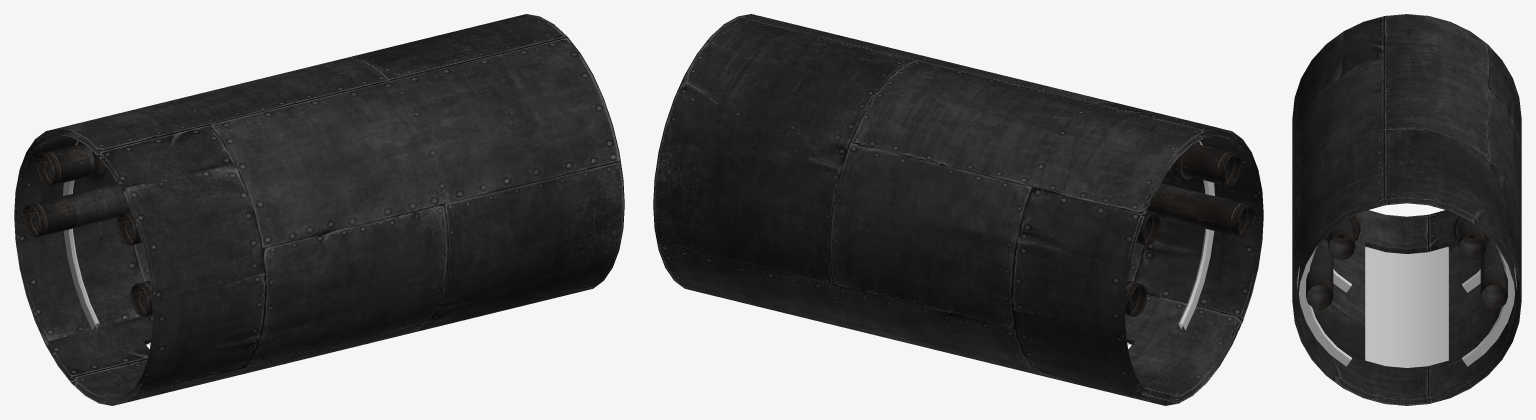
Rendered from engineroom_largepipe_straight.dae.
The picture shows the model from 3 angles, left to right: view 1: azimuth 30°, elevation 25°; view 2: azimuth 150°, elevation 25°; view 3: azimuth 270°, elevation 25°; orthographic projection. The views are drawn at different scales.
Parts seen in each view (by area): view 1: pipe_straight_sheets, pipe_straight_pipes, pipe_straight_ribs1; view 2: pipe_straight_sheets, pipe_straight_pipes, pipe_straight_ribs1; view 3: pipe_straight_sheets, pipe_straight_grate, pipe_straight_pipes, pipe_straight_ribs1.
Part boxes in pixels (bbox=[...]): pipe_straight_sheets: bbox=[14, 14, 624, 405]; pipe_straight_pipes: bbox=[22, 141, 152, 316]; pipe_straight_ribs1: bbox=[63, 141, 99, 330]; pipe_straight_sheets: bbox=[653, 14, 1263, 405]; pipe_straight_pipes: bbox=[1125, 141, 1255, 316]; pipe_straight_ribs1: bbox=[1178, 141, 1214, 330]; pipe_straight_sheets: bbox=[1292, 14, 1521, 405]; pipe_straight_grate: bbox=[1365, 247, 1448, 367]; pipe_straight_pipes: bbox=[1306, 216, 1507, 309]; pipe_straight_ribs1: bbox=[1297, 246, 1516, 366].
Size of the model in its own units: 600 by 315 by 315.
